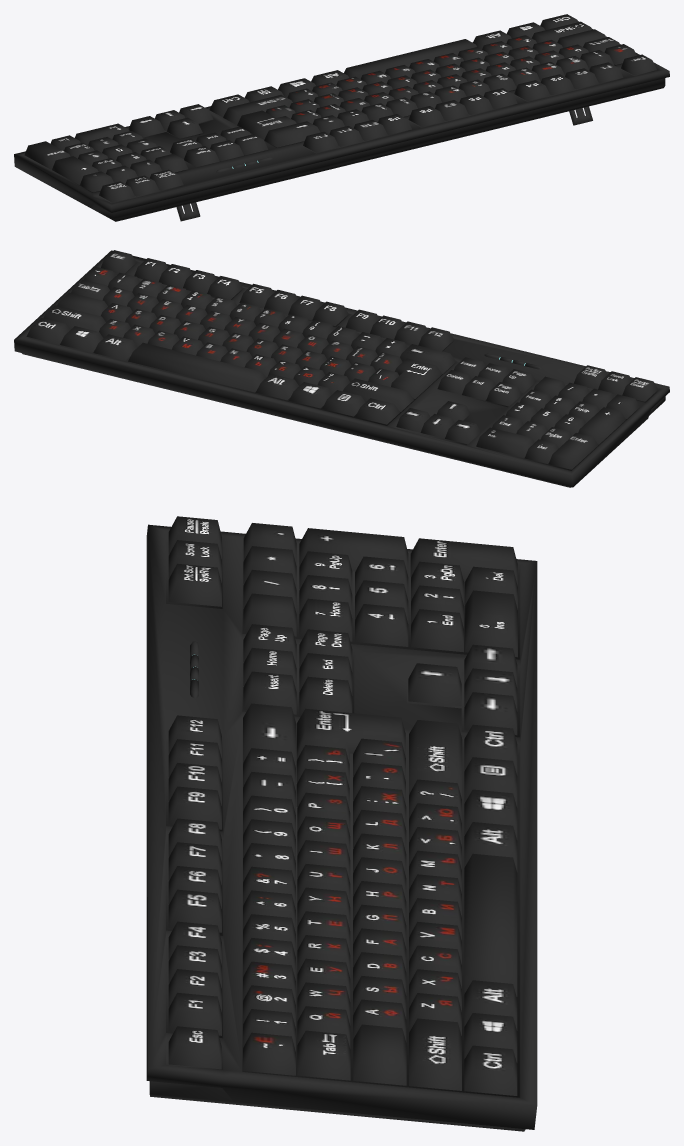
The model's file is keyboard-black.glb.
3 renders of one model, top to bottom at view 1: azimuth 30°, elevation 25°; view 2: azimuth 150°, elevation 25°; view 3: azimuth 270°, elevation 25°, orthographic. The views are drawn at different scales.
Visible parts, largest first — view 1: KeyBoard_keys; view 2: KeyBoard_keys; view 3: KeyBoard_keys.
Part boxes in pixels (x1=…): KeyBoard_keys: x1=14, y1=14, x2=669, y2=221; KeyBoard_keys: x1=14, y1=250, x2=669, y2=487; KeyBoard_keys: x1=146, y1=516, x2=537, y2=1131.
Size of the model in its own units: 0.45 by 0.0325 by 0.1363.
2 materials, 1 textured.
